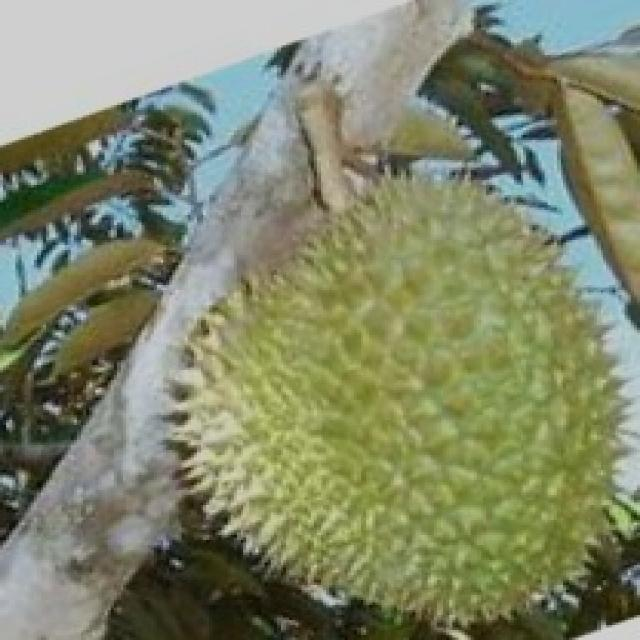fruit: (108, 230, 449, 635)
